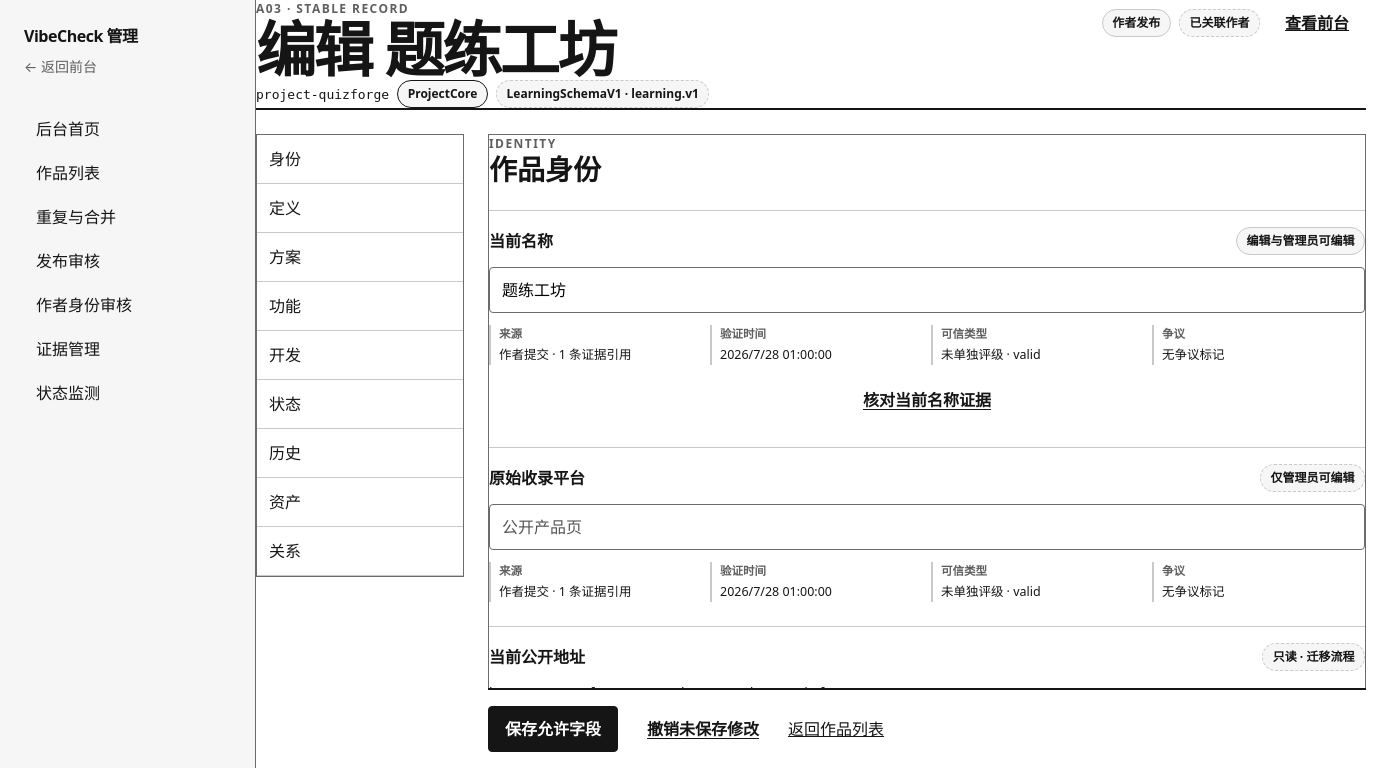
Test: T48 admin project editor › keeps invalid edits unsaved and marks the corresponding module
Clear the field named "当前名称" at (927, 290), box [489,267,1365,313]
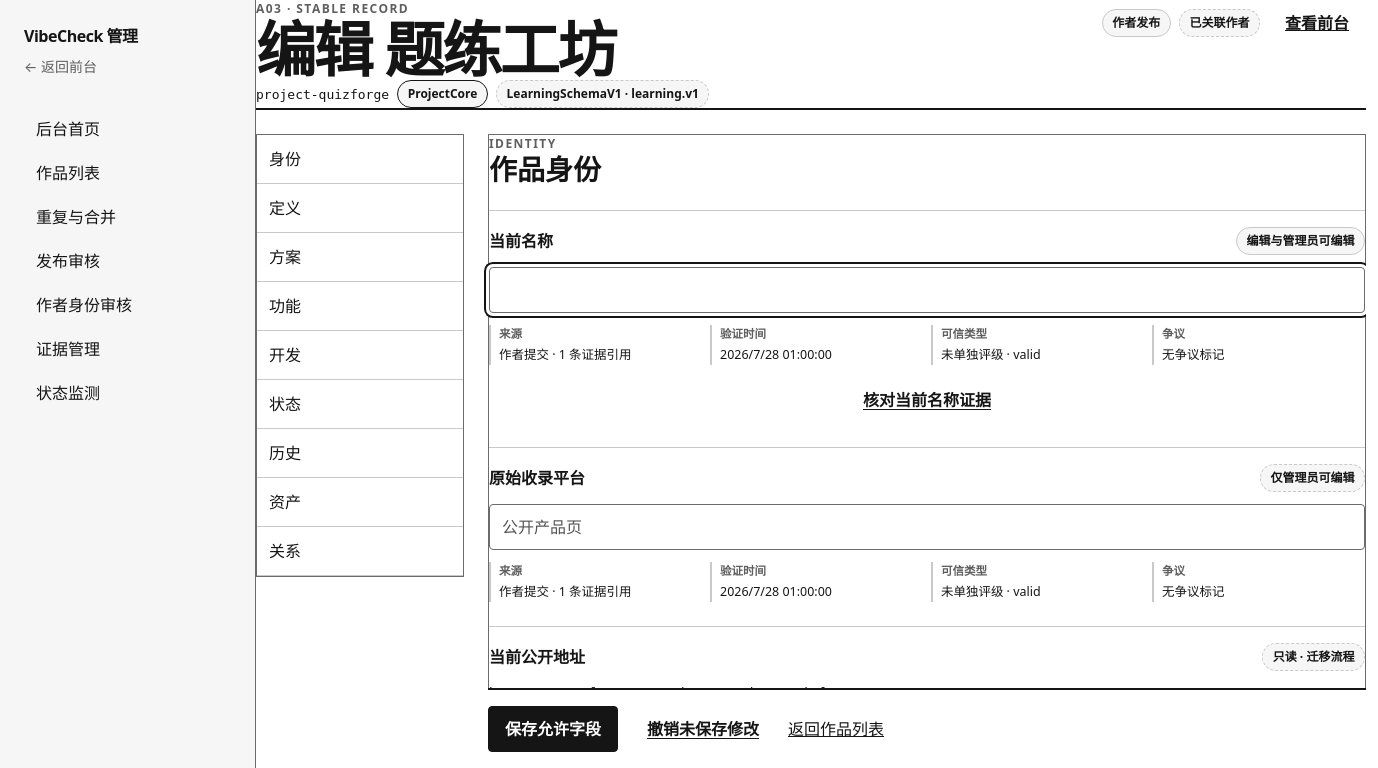
Click the button "保存允许字段".
click(553, 729)  # box [488,706,618,752]
(page scrolled)
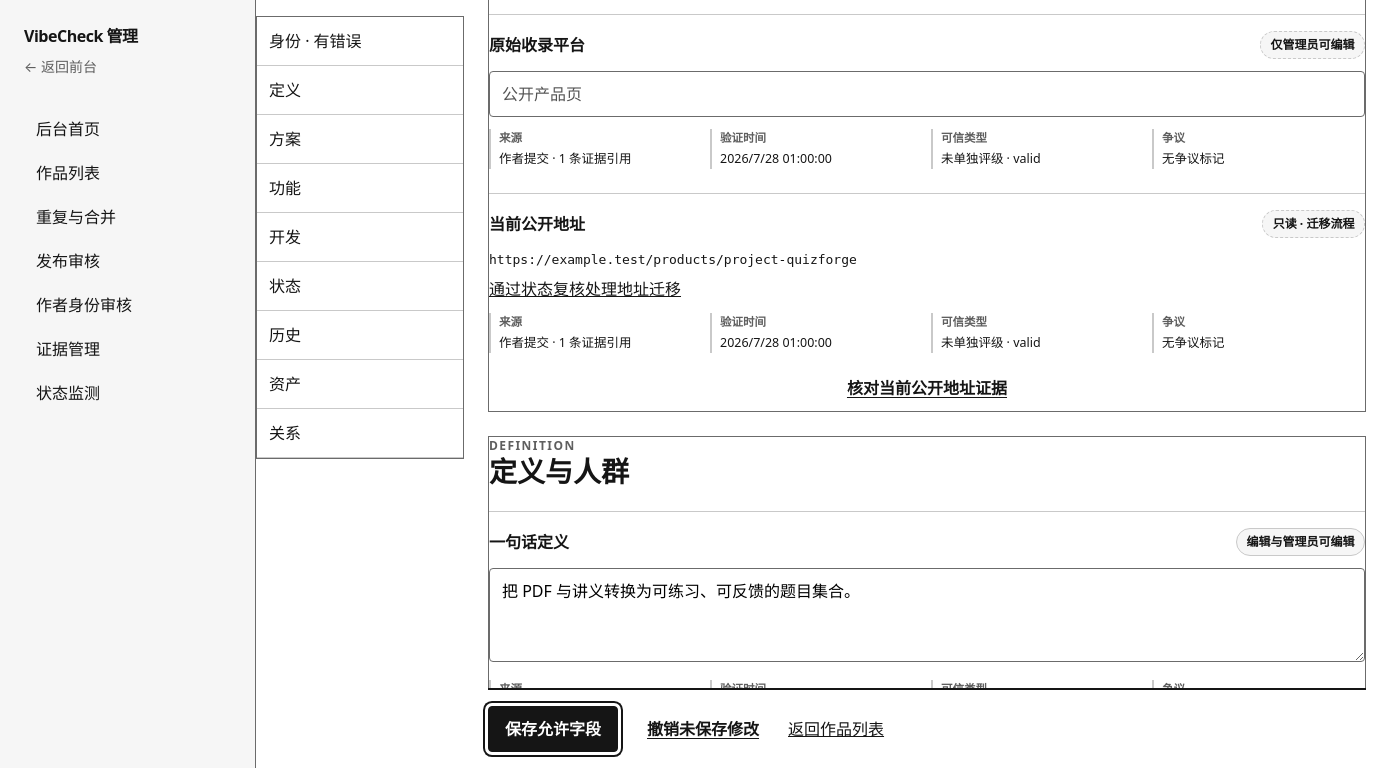
Expected: the navigation bar named "作品编辑模块" shows "身份 · 有错误", [256,16,464,459]
